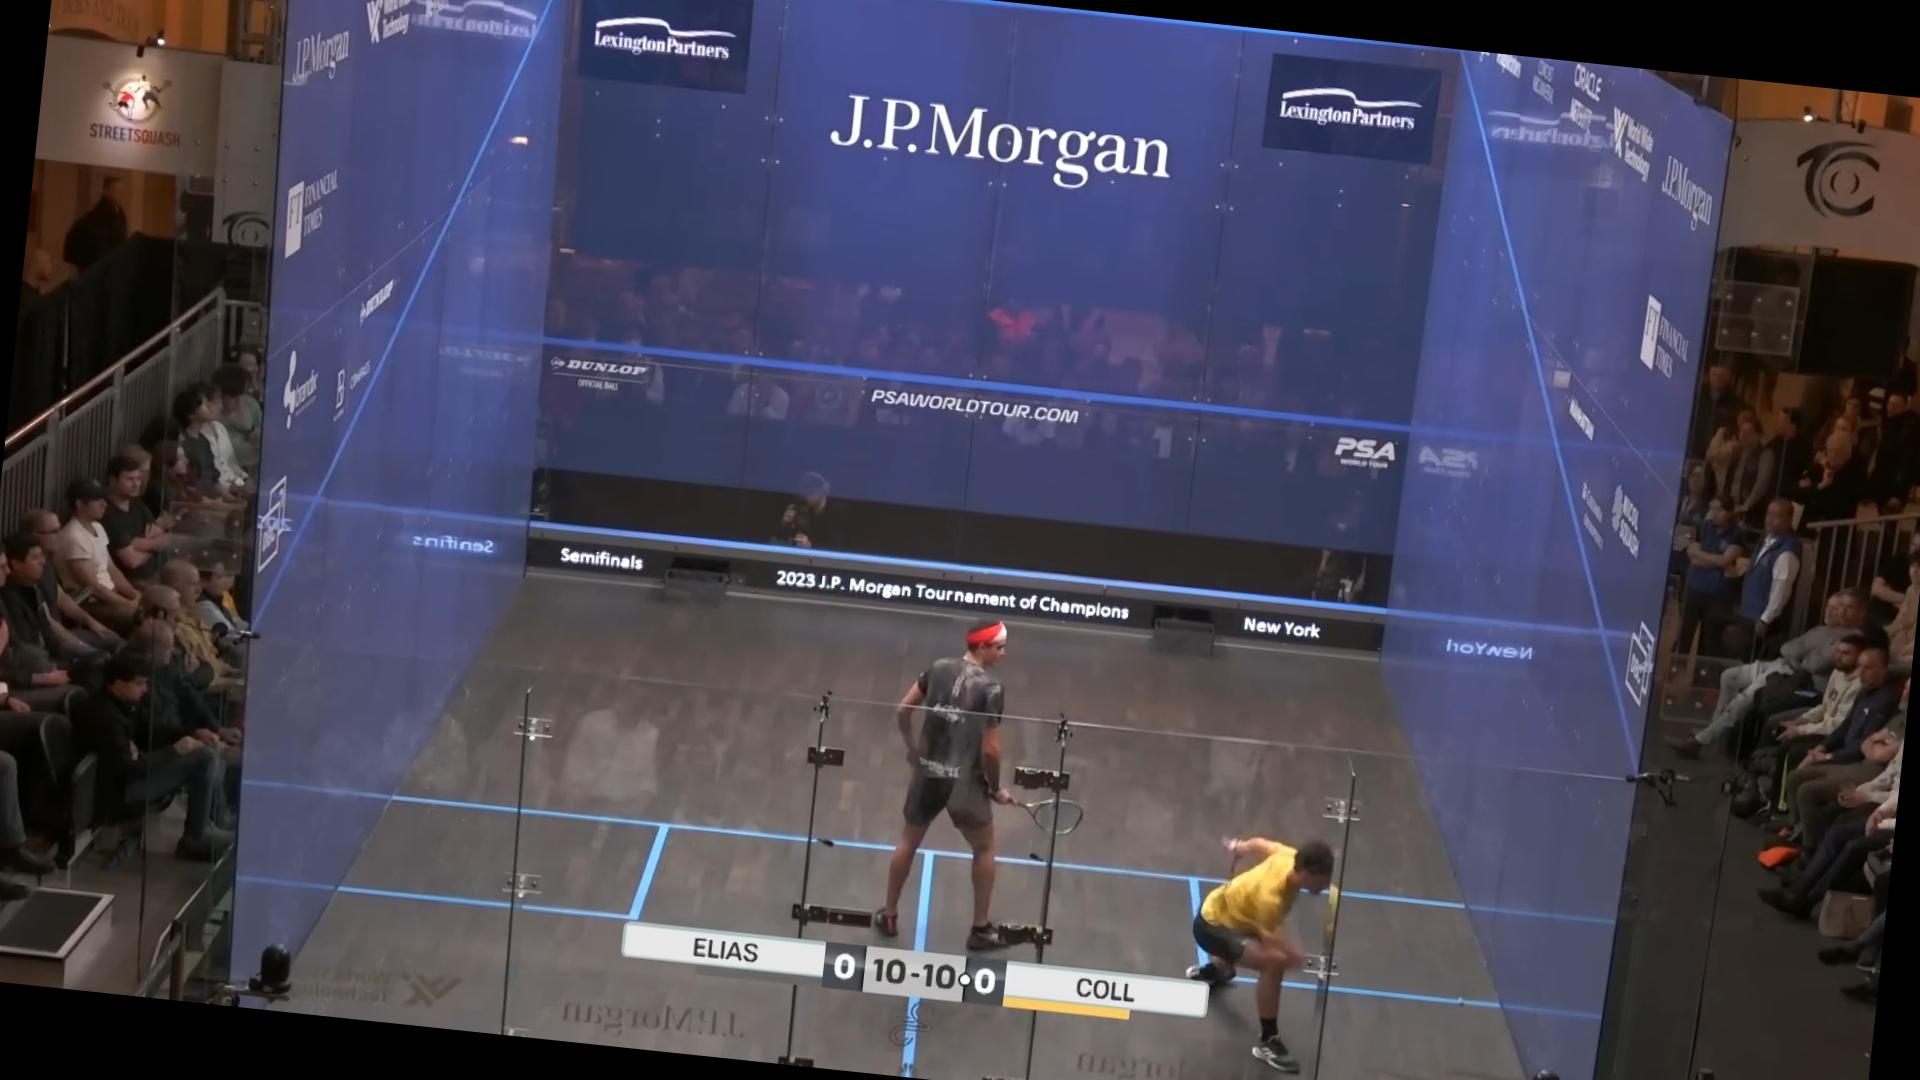Racket: (1004, 787, 1095, 844)
